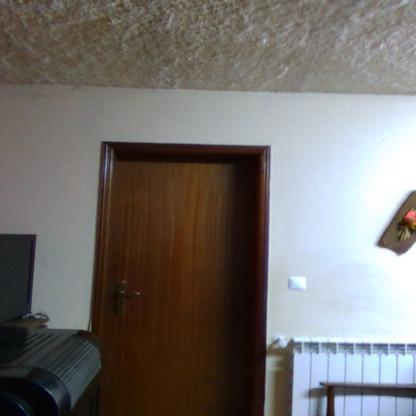door: (108, 156, 258, 415)
lever: (113, 288, 146, 300)
